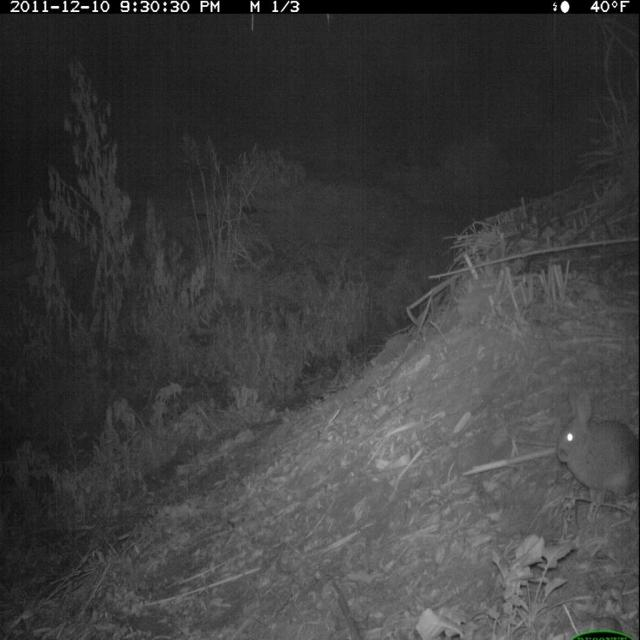rabbit: (554, 384, 639, 514)
